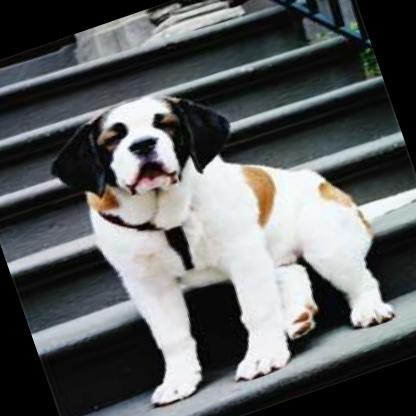Saint_Bernard: (12, 3, 416, 416)
